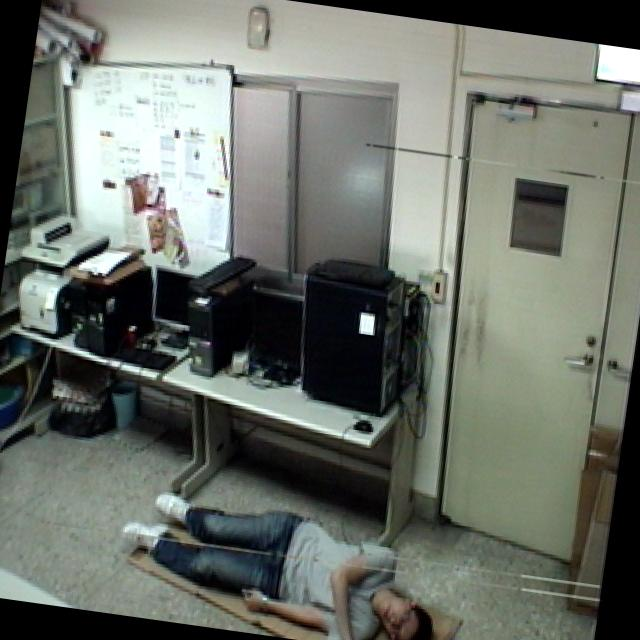lie: (105, 462, 459, 640)
